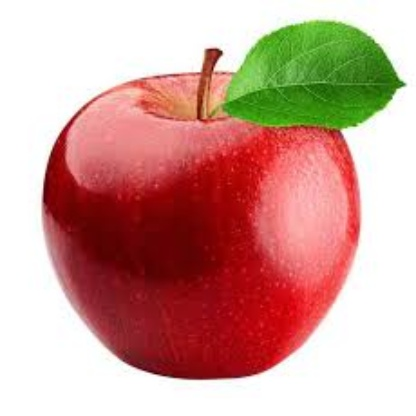tao: (33, 54, 357, 385)
